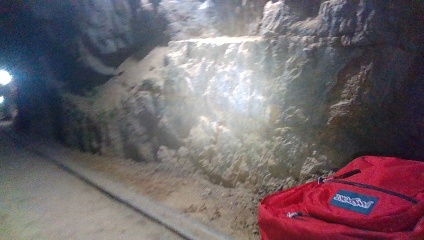backpack: (253, 154, 423, 238)
